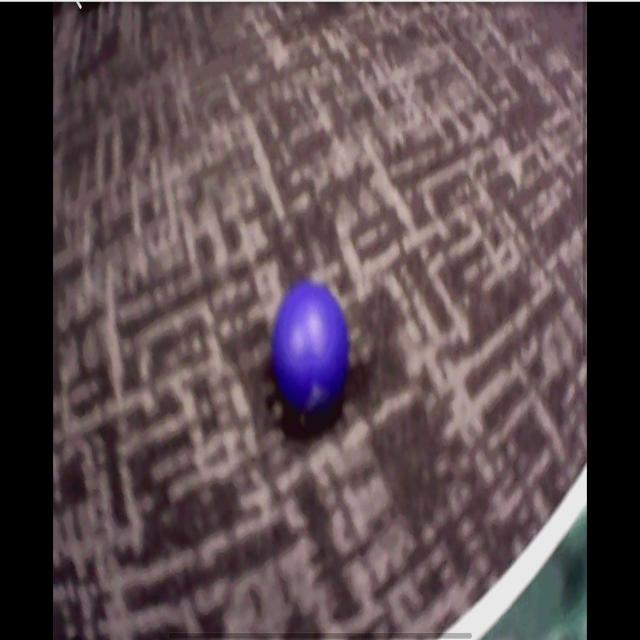ball: (273, 285, 351, 414)
